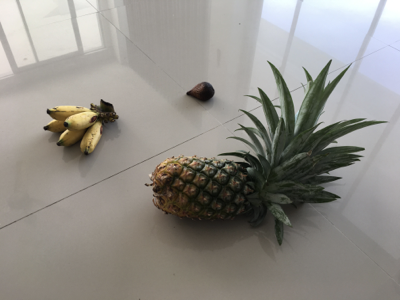banana: (45, 100, 119, 156)
pineapple: (149, 61, 385, 245)
snake fruit: (187, 81, 215, 102)
